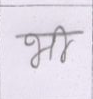i_matra: (56, 25, 71, 62)
